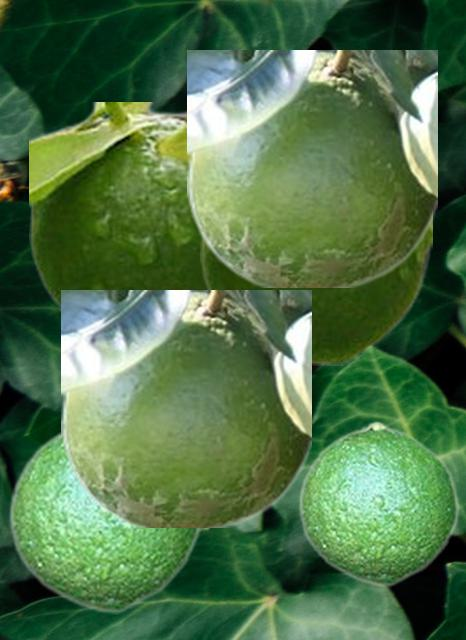dalandan: (61, 290, 310, 526), (187, 50, 436, 286), (29, 102, 205, 313), (7, 427, 200, 613), (200, 228, 431, 364), (297, 420, 458, 586)
